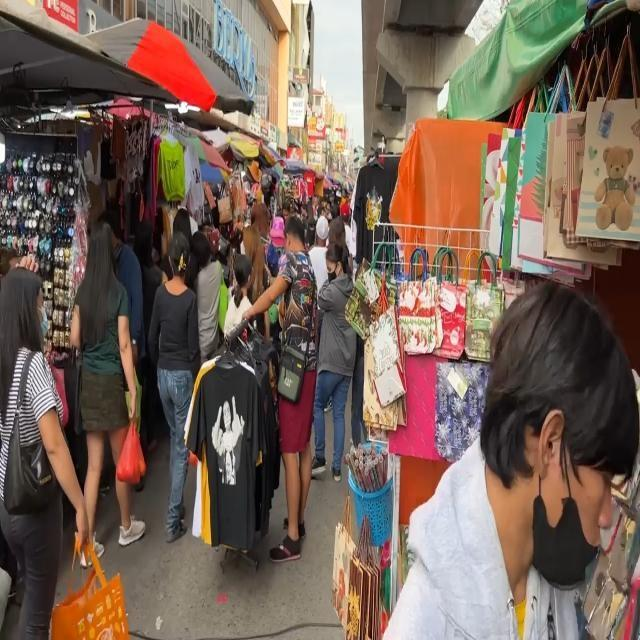hairnet: (523, 391, 615, 586)
